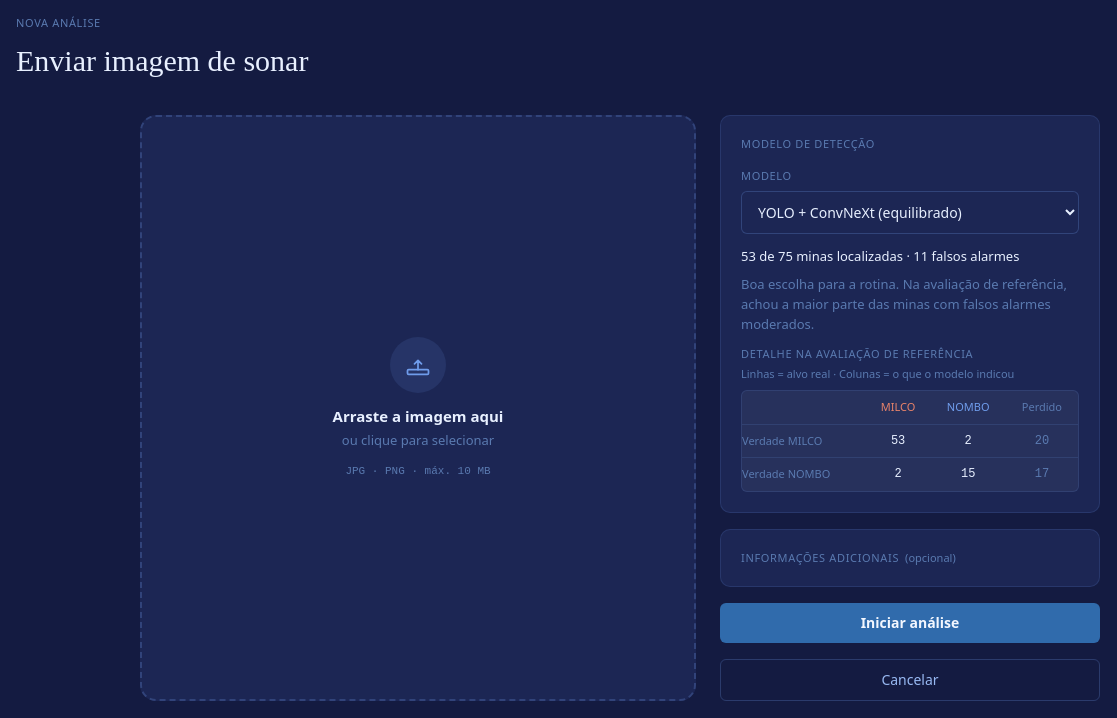
Test: NovaAnalisePage › updates description when another model is selected
Select "YOLO + ConvNeXt (recall)" in the dropdown labelled "Modelo" at coordinates (910, 212), box [741,190,1079,234]
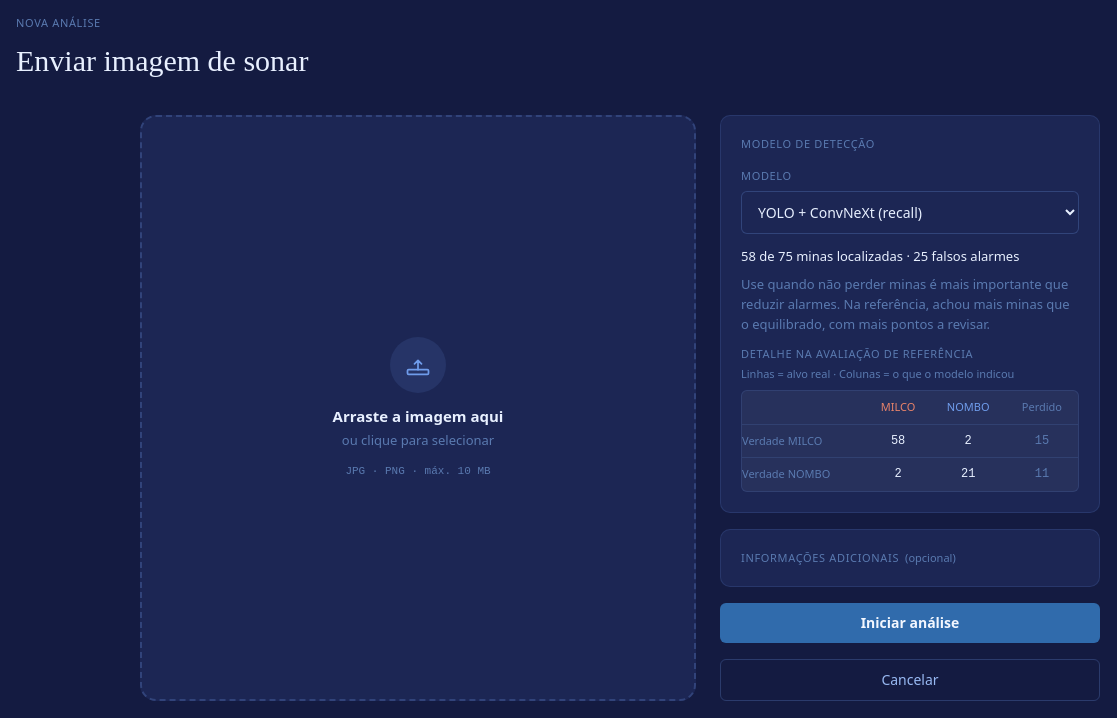
Result: the text "58 de 75 minas localizadas · 25 falsos alarmes" is shown at [741,246,1019,264]
Result: the text "53 de 75 minas localizadas · 11 falsos alarmes" is gone
